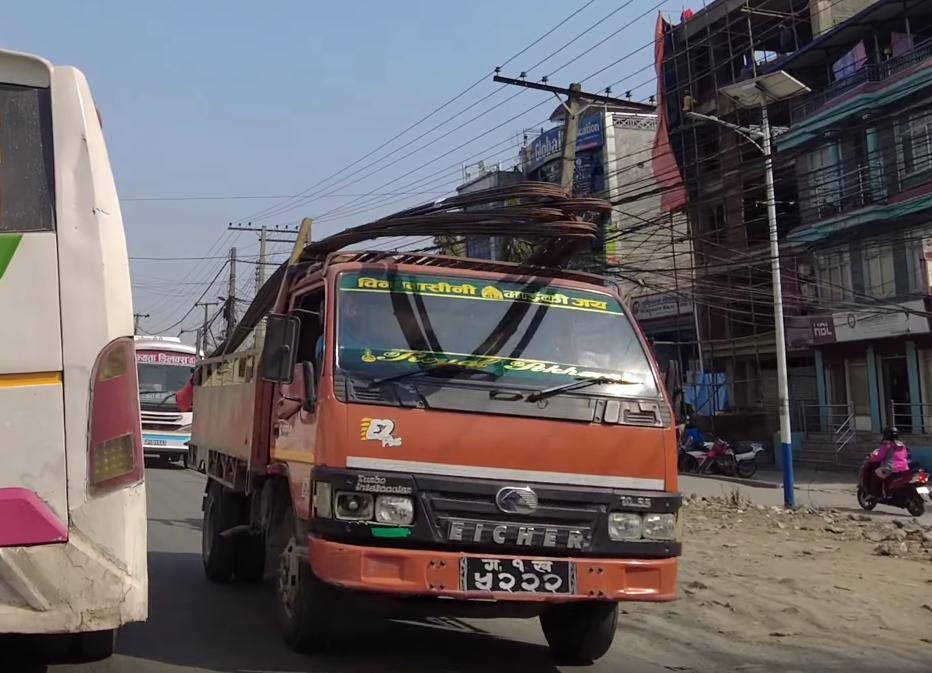bus: (0, 40, 170, 673), (109, 323, 221, 468)
mini_truck: (172, 212, 694, 673)
scooter: (847, 427, 932, 528)
